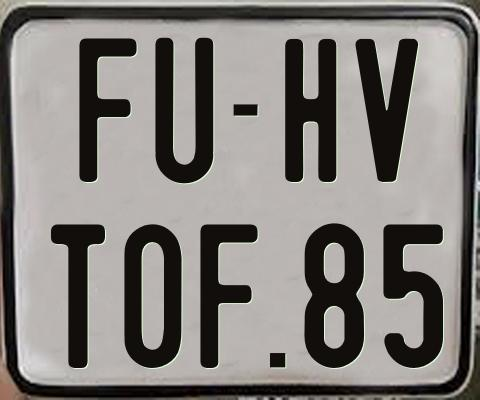0: (123, 222, 187, 372)
5: (380, 221, 446, 370)
8: (301, 223, 362, 372)
F: (199, 221, 262, 366), (78, 37, 136, 187)
H: (282, 38, 333, 182)
T: (51, 223, 109, 372)
U: (154, 38, 214, 189)
V: (355, 38, 419, 186)
